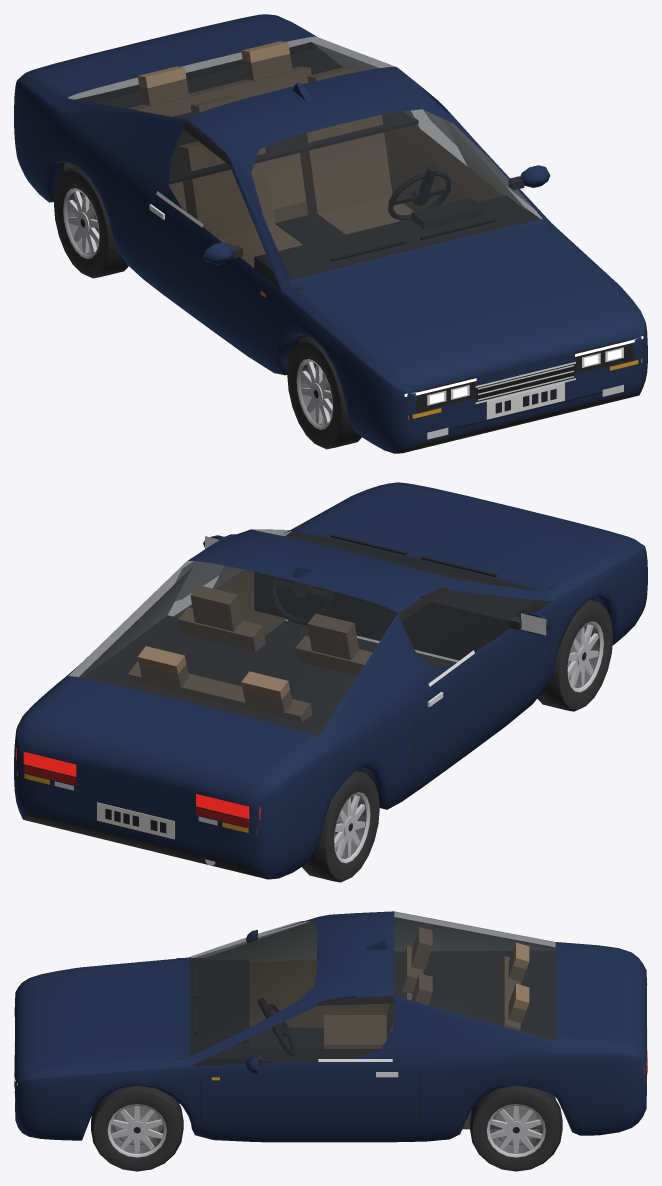
The model's file is coupe_navy.glb.
The picture shows the model from 3 angles, top to bottom: view 1: azimuth 30°, elevation 25°; view 2: azimuth 150°, elevation 25°; view 3: azimuth 270°, elevation 25°; orthographic projection. The views are drawn at different scales.
Visible parts, largest first — view 1: coupe_navy_body, Wheel_RR, Wheel_FR; view 2: coupe_navy_body, Wheel_RR, Wheel_FR; view 3: coupe_navy_body, Wheel_RL, Wheel_FL.
Boxes of the visible parts, x1=… form: coupe_navy_body: x1=14, y1=14, x2=647, y2=453; Wheel_RR: x1=54, y1=166, x2=128, y2=278; Wheel_FR: x1=287, y1=337, x2=361, y2=449; coupe_navy_body: x1=14, y1=482, x2=647, y2=879; Wheel_RR: x1=302, y1=770, x2=379, y2=882; Wheel_FR: x1=537, y1=599, x2=613, y2=711; coupe_navy_body: x1=14, y1=911, x2=647, y2=1142; Wheel_RL: x1=470, y1=1085, x2=562, y2=1171; Wheel_FL: x1=91, y1=1085, x2=183, y2=1171.
Size of the model in its own units: 0.1154 by 0.0698 by 0.2258.
Materials: 8 (1 with a texture image).
